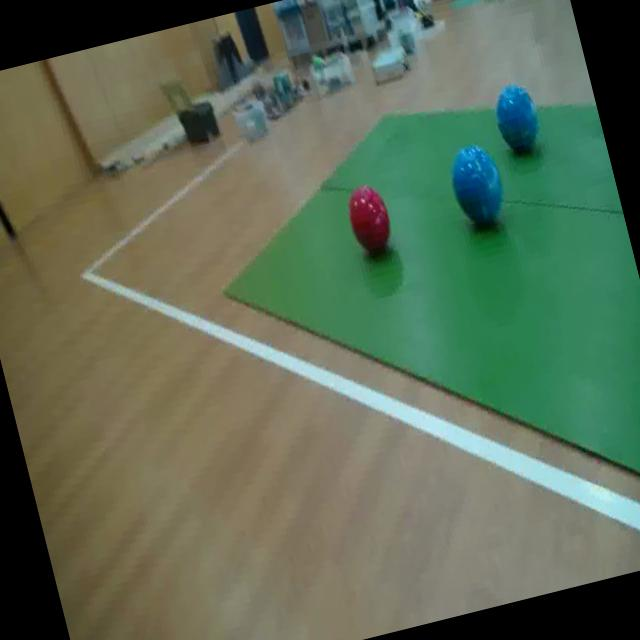blue_ball: (439, 136, 514, 238), (484, 73, 548, 163)
red_ball: (340, 179, 400, 262)
